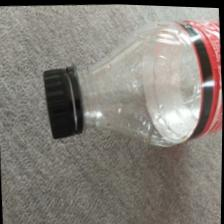glass: (44, 19, 220, 146)
plastic: (44, 7, 220, 146)
